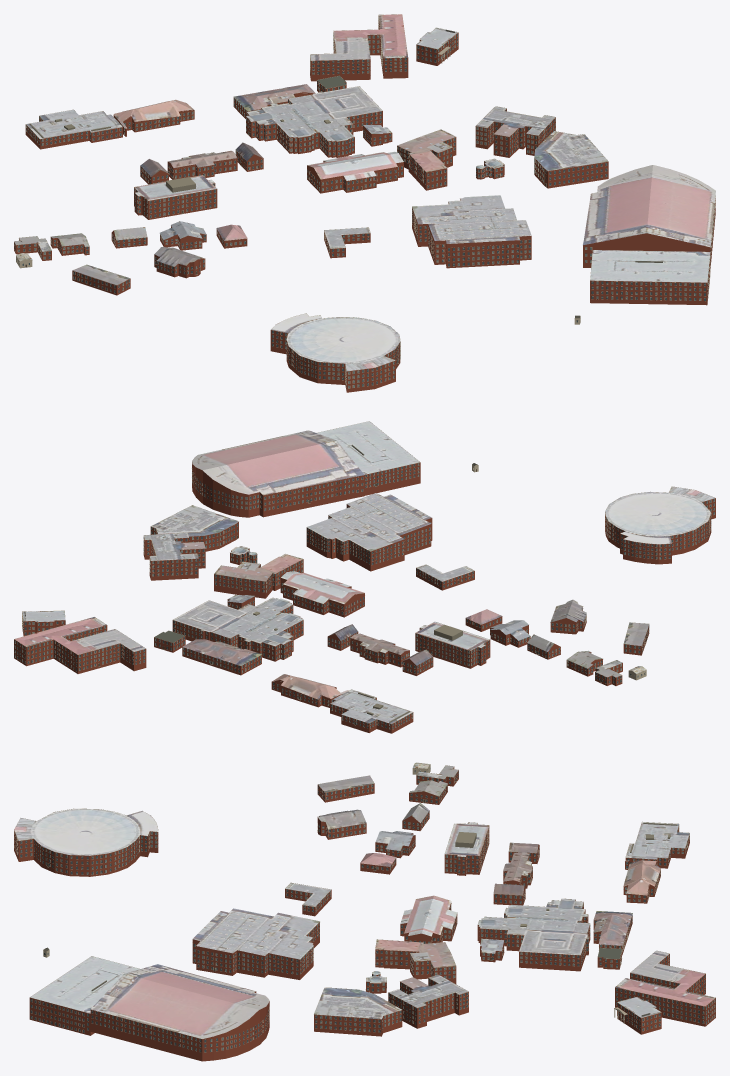
3 renders of one model, top to bottom at view 1: azimuth 30°, elevation 25°; view 2: azimuth 150°, elevation 25°; view 3: azimuth 270°, elevation 25°, orthographic. The views are drawn at different scales.
Visible parts, largest first — view 1: -4_0_135662222_0; view 2: -4_0_135662222_0; view 3: -4_0_135662222_0.
Boxes of the visible parts, <box> form: -4_0_135662222_0: <box>14,14,715,392</box>; -4_0_135662222_0: <box>14,421,715,733</box>; -4_0_135662222_0: <box>14,762,715,1061</box>.
Size of the model in its own units: 532 by 34.65 by 557.
13 materials, 1 textured.
